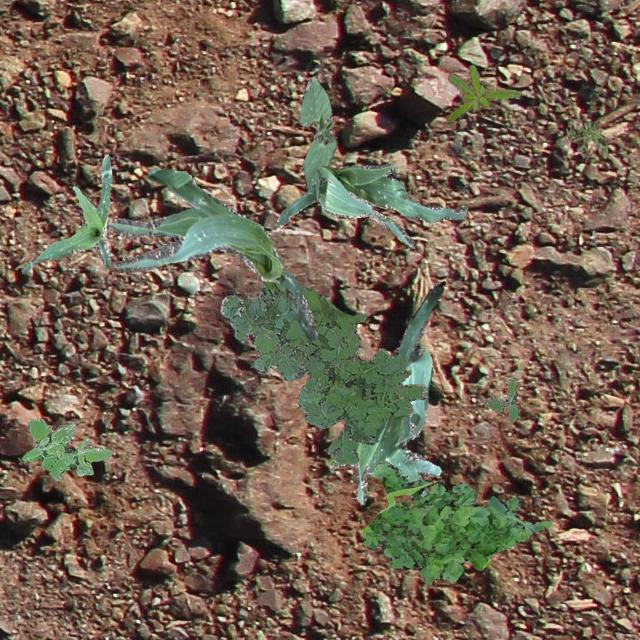crop: (110, 166, 316, 340), (326, 281, 444, 504), (276, 162, 467, 246), (20, 152, 110, 272), (298, 76, 336, 190)
weed: (220, 280, 426, 463), (362, 460, 550, 582), (20, 418, 111, 480), (444, 64, 520, 120), (564, 118, 608, 156), (482, 376, 518, 421)
